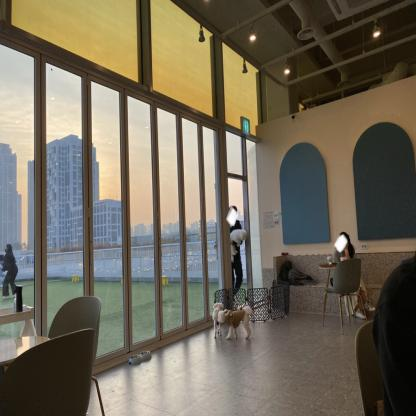dog: (207, 295, 264, 347), (226, 225, 247, 261)
